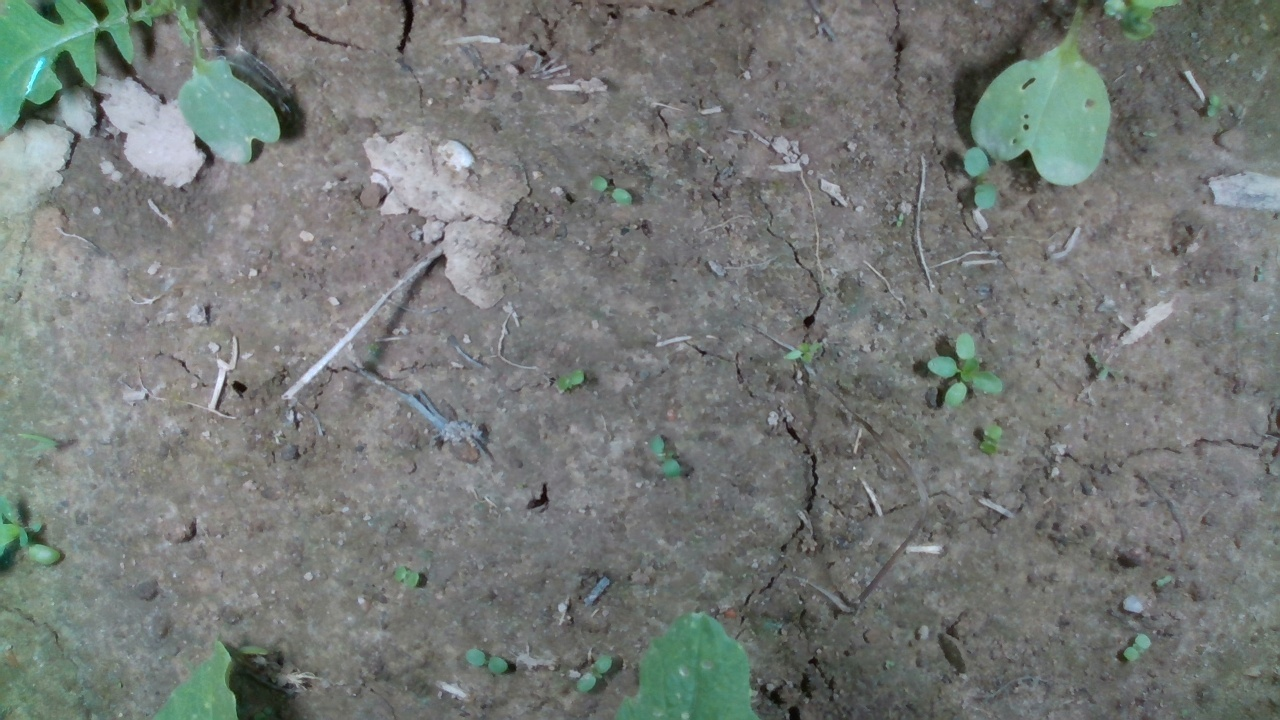weed: (459, 647, 513, 677)
